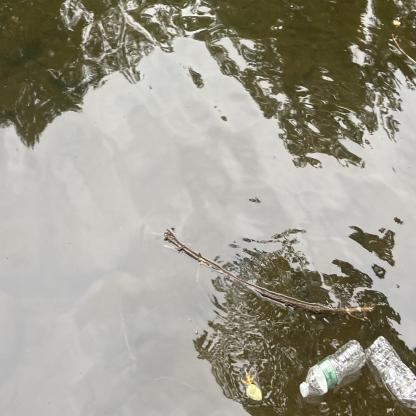trash: (298, 336, 366, 402), (367, 336, 416, 414)
